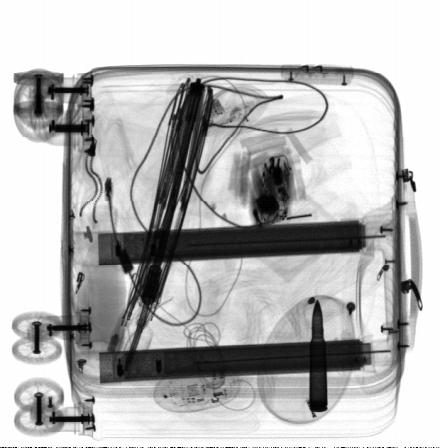Bullet: (309, 298, 328, 412)
